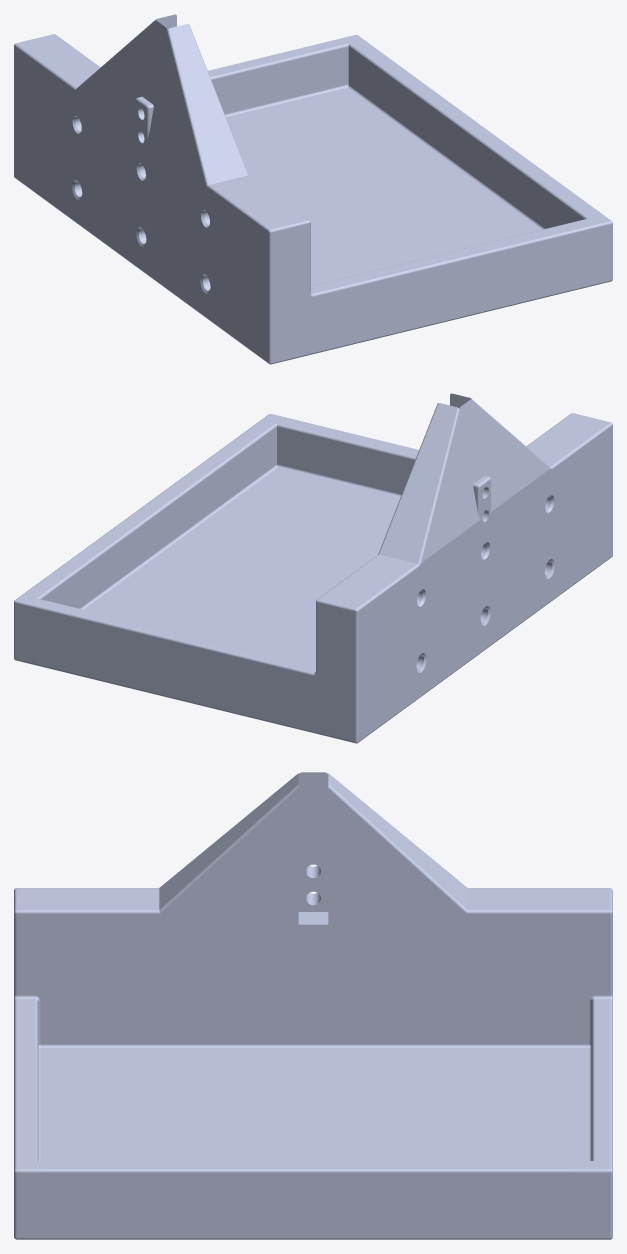
The model's file is Clamp hook.gltf.
3 renders of one model, top to bottom at view 1: azimuth 30°, elevation 25°; view 2: azimuth 150°, elevation 25°; view 3: azimuth 270°, elevation 25°, orthographic. The views are drawn at different scales.
Visible parts, largest first — view 1: Clamp hook; view 2: Clamp hook; view 3: Clamp hook.
Boxes of the visible parts, x1,y1,x2,y2 form: Clamp hook: (14, 14, 612, 364); Clamp hook: (14, 393, 612, 743); Clamp hook: (14, 772, 612, 1239).
Size of the model in its own units: 0.155 by 0.1045 by 0.2.
